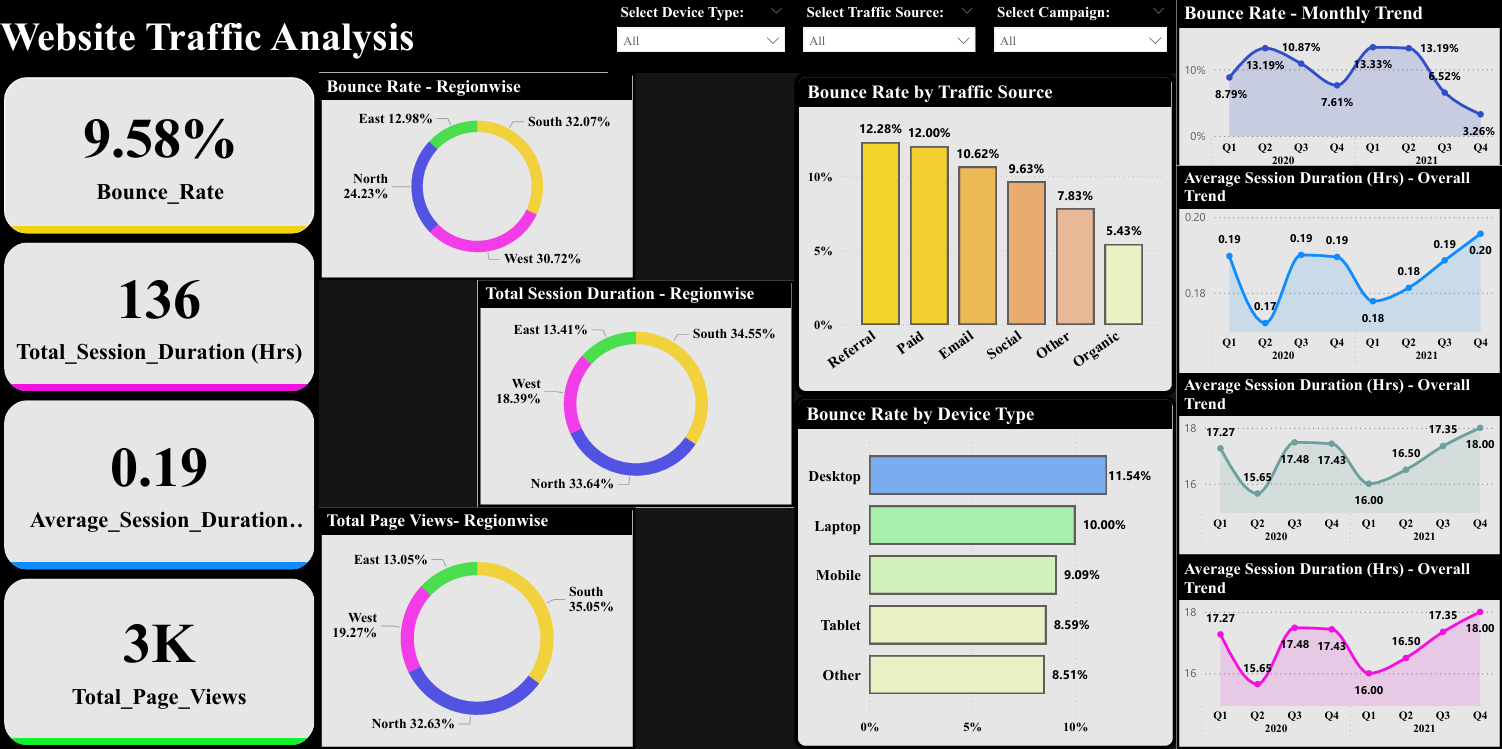

The page's visual inventory and layout, read from the dashboard file:
{"tool":"powerbi","page":{"name":"Dashboard","canvas":[1600,800],"ordinal":0},"visuals":[{"type":"shape","box":[0,0,648.3,78.5],"z":0},{"type":"donutChart","title":"Bounce Rate - Regionwise","fields":{"Y":["#Measures.Bounce_Rate"],"Category":["website_traffic geo_lookup.Location_Region"]},"box":[340.1,78.5,337.2,220.9],"z":1000},{"type":"donutChart","title":"Total Session Duration - Regionwise","fields":{"Category":["website_traffic geo_lookup.Location_Region"],"Y":["#Measures.Total_Session_Duration"]},"box":[508.7,299.4,337.2,241.3],"z":2000},{"type":"donutChart","title":"Total Page Views- Regionwise","fields":{"Category":["website_traffic geo_lookup.Location_Region"],"Y":["#Measures.Total_Page_Views"]},"box":[340.1,540.7,337.2,258.7],"z":3000},{"type":"cardVisual","fields":{"Data":["#Measures.Bounce_Rate"]},"box":[0,78.5,340.1,175.9],"z":4000},{"type":"cardVisual","fields":{"Data":["#Measures.Total_Session_Duration"]},"box":[0,254.4,340.1,167.2],"z":5000},{"type":"cardVisual","fields":{"Data":["#Measures.Average_Session_Duration"]},"box":[0,421.5,340.1,190.4],"z":6000},{"type":"cardVisual","fields":{"Data":["#Measures.Total_Page_Views"]},"box":[0,611.9,340.1,187.5],"z":7000},{"type":"clusteredColumnChart","title":"Bounce Rate by Traffic Source","fields":{"Category":["website_traffic source_lookup.Website_Traffic_Sources"],"Y":["#Measures.Bounce_Rate"]},"box":[845.9,78.5,407,343],"z":8000},{"type":"clusteredBarChart","title":"Bounce Rate by Device Type","fields":{"Y":["#Measures.Bounce_Rate"],"Category":["website_traffic device_lookup.Device_Type"]},"box":[845.9,421.5,407,377.9],"z":9000},{"type":"areaChart","title":"Bounce Rate - Monthly Trend","fields":{"Y":["#Measures.Bounce_Rate"],"Category":["Date_Lookup.Year","Date_Lookup.Quarter"]},"box":[1252.9,0,347.4,193.3],"z":10000},{"type":"areaChart","title":"Average Session Duration (Hrs) - Overall Trend","fields":{"Y":["#Measures.Average_Session_Duration"],"Category":["Date_Lookup.Year","Date_Lookup.Quarter"]},"box":[1252.9,177.3,347.4,223.8],"z":11000},{"type":"areaChart","title":"Average Session Duration (Hrs) - Overall Trend","fields":{"Category":["Date_Lookup.Year","Date_Lookup.Quarter"],"Y":["#Measures.Total_Session_Duration"]},"box":[1252.9,398.3,347.4,196.2],"z":12000},{"type":"areaChart","title":"Average Session Duration (Hrs) - Overall Trend","fields":{"Category":["Date_Lookup.Year","Date_Lookup.Quarter"],"Y":["#Measures.Total_Session_Duration"]},"box":[1252.9,594.5,347.4,204.9],"z":13000},{"type":"slicer","fields":{"Values":["website_traffic device_lookup.Device_Type"]},"box":[648.3,0,197.7,78.5],"z":14000},{"type":"slicer","fields":{"Values":["website_traffic source_lookup.Website_Traffic_Sources"]},"box":[845.9,0,203.5,78.5],"z":15000},{"type":"slicer","fields":{"Values":["website_traffic source_lookup.Campaign"]},"box":[1049.4,0,203.5,78.5],"z":16000}]}

Visuals, with their boxes in screenshot pixels (x1, y1, x2, y2), scaled from the page's 1600x800 canvas onto the 1502x749 screenshot:
shape: (0,0,609,73)
"Bounce Rate - Regionwise" donutChart: (319,73,636,280)
"Total Session Duration - Regionwise" donutChart: (478,280,794,506)
"Total Page Views- Regionwise" donutChart: (319,506,636,748)
cardVisual - #Measures.Bounce_Rate: (0,73,319,238)
cardVisual - #Measures.Total_Session_Duration: (0,238,319,395)
cardVisual - #Measures.Average_Session_Duration: (0,395,319,573)
cardVisual - #Measures.Total_Page_Views: (0,573,319,748)
"Bounce Rate by Traffic Source" clusteredColumnChart: (794,73,1176,395)
"Bounce Rate by Device Type" clusteredBarChart: (794,395,1176,748)
"Bounce Rate - Monthly Trend" areaChart: (1176,0,1501,181)
"Average Session Duration (Hrs) - Overall Trend" areaChart: (1176,166,1501,376)
"Average Session Duration (Hrs) - Overall Trend" areaChart: (1176,373,1501,557)
"Average Session Duration (Hrs) - Overall Trend" areaChart: (1176,557,1501,748)
slicer - website_traffic device_lookup.Device_Type: (609,0,794,73)
slicer - website_traffic source_lookup.Website_Traffic_Sources: (794,0,985,73)
slicer - website_traffic source_lookup.Campaign: (985,0,1176,73)
